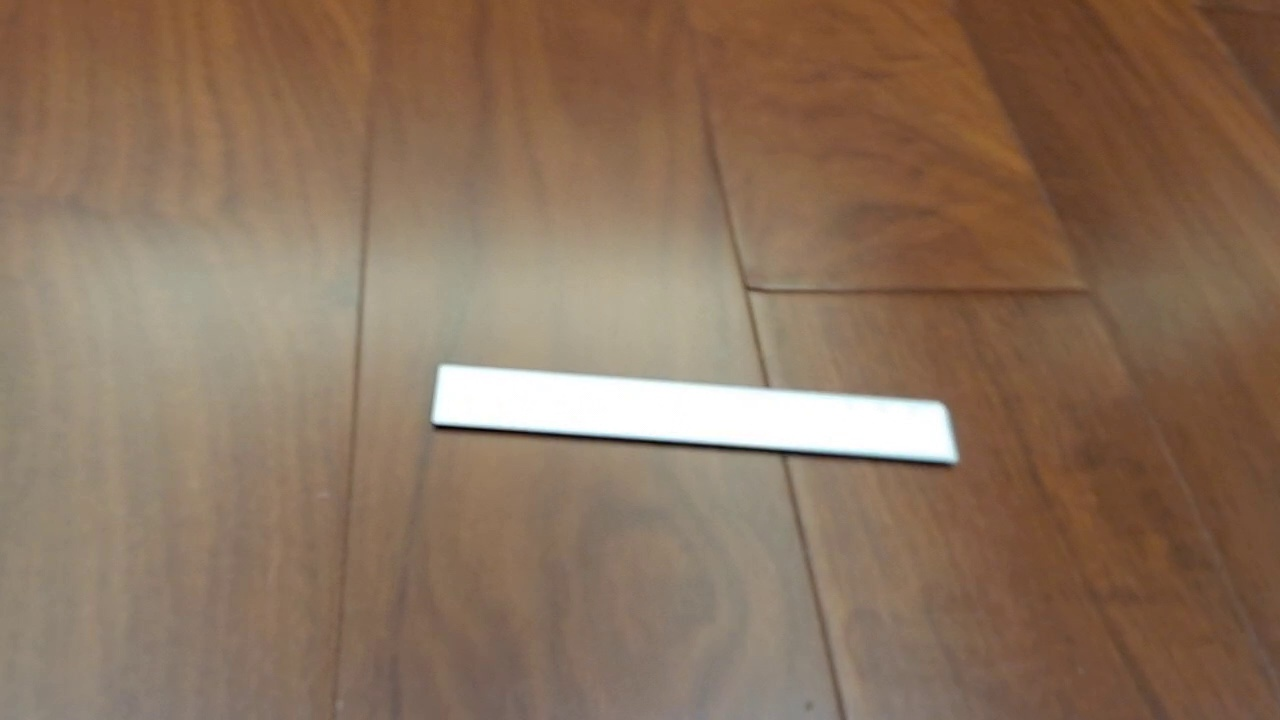ruler: (428, 361, 962, 468)
